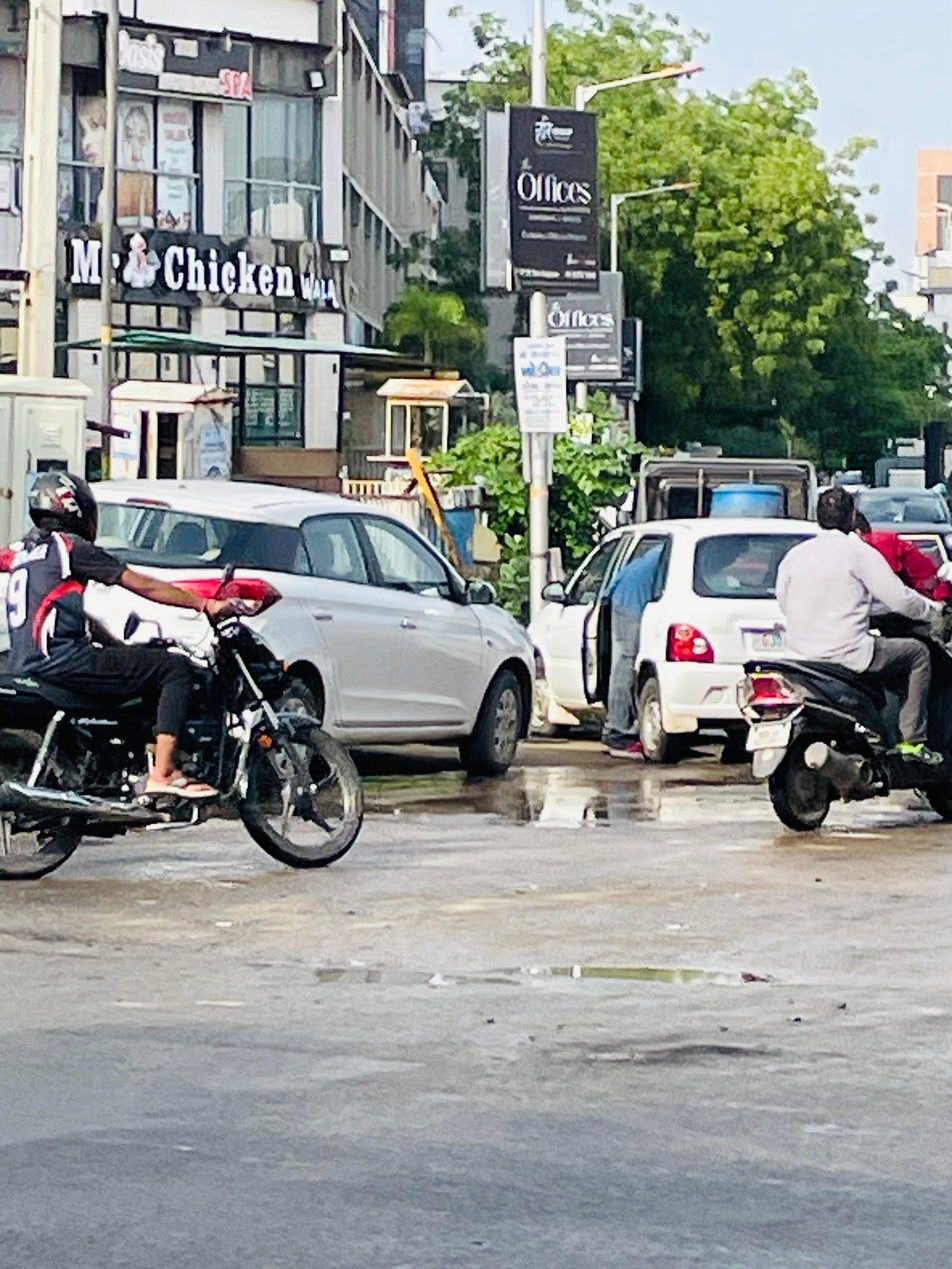BikeWithRider: (0, 445, 389, 886), (724, 476, 952, 841)
Helmet: (15, 454, 107, 551)
NoHelmet: (805, 479, 864, 549)
